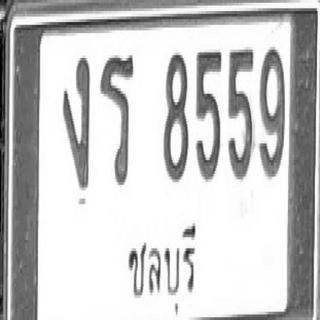A07: (62, 54, 90, 192)
A35: (99, 50, 134, 185)
N05: (195, 47, 222, 179), (227, 44, 253, 179)
N08: (163, 48, 188, 181)
N09: (259, 44, 285, 176)
P13: (123, 219, 200, 320)
